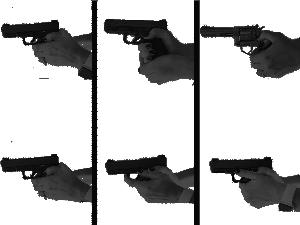handgun: (99, 145, 183, 199), (113, 22, 187, 73), (200, 150, 284, 190), (1, 146, 66, 191), (199, 19, 266, 62), (10, 12, 64, 45)
